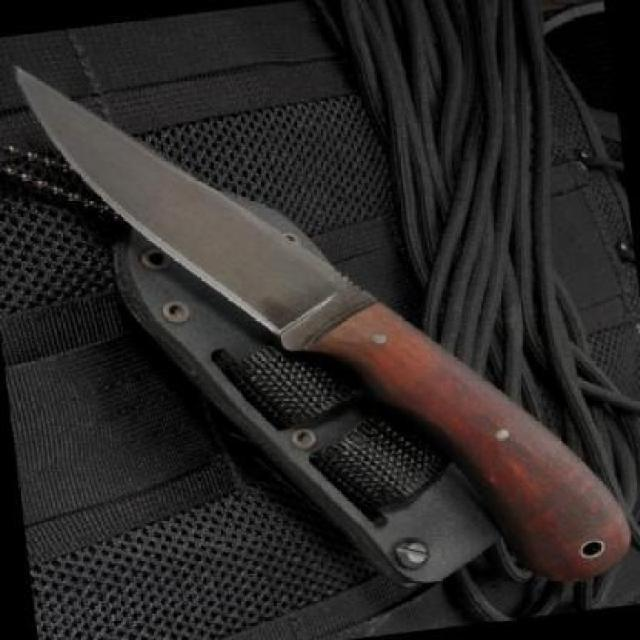knife: (13, 70, 629, 581)
